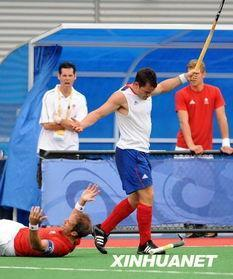Fall-Detected: (0, 173, 107, 257)
